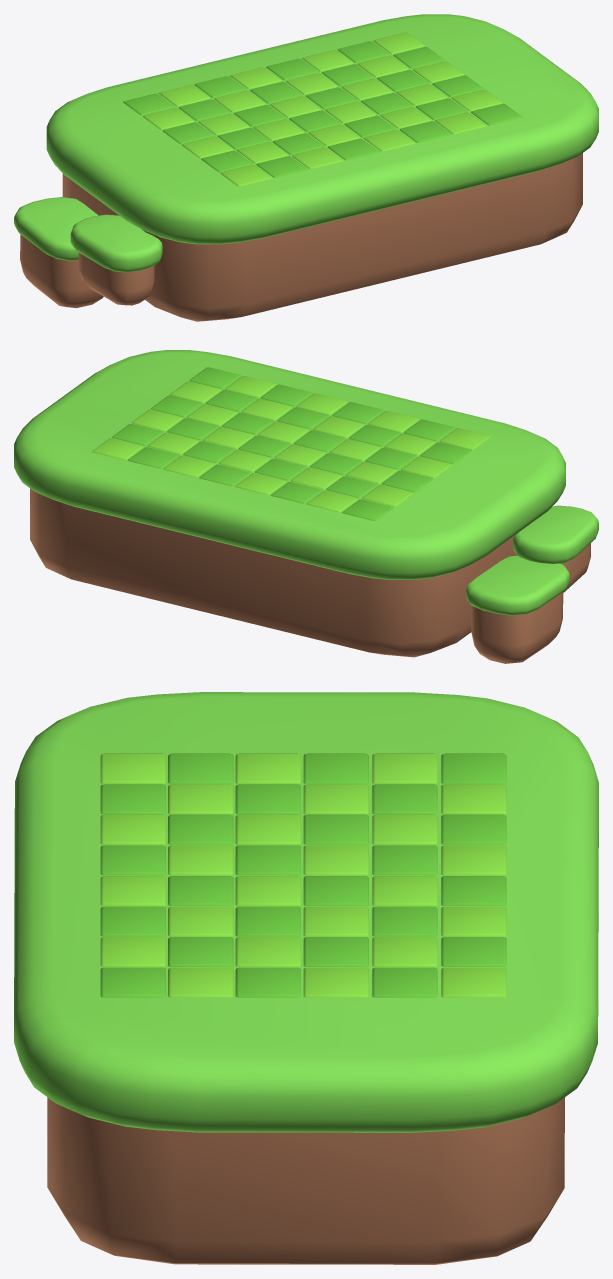
The model's file is Platforms.fbx.
3 renders of one model, top to bottom at view 1: azimuth 30°, elevation 25°; view 2: azimuth 150°, elevation 25°; view 3: azimuth 270°, elevation 25°, orthographic. The views are drawn at different scales.
Visible parts, largest first — view 1: Cube.077, Cube.076, Cube.065, Cube.069, Cube.068, Cube.064, Cube.054, Cube.062, Cube.081, Cube.014, Cube.039, Cube.013 (+42 smaller); view 2: Cube.077, Cube.076, Cube.069, Cube.068, Cube.065, Cube.013, Cube.081, Cube.120, Cube.086, Cube.015, Cube.019, Cube.026 (+42 smaller); view 3: Cube.077, Cube.076, Cube.025, Cube.061, Cube.122, Cube.016, Cube.018, Cube.019, Cube.026, Cube.054, Cube.060, Cube.062 (+38 smaller).
Boxes of the visible parts, x1,y1,x2,y2 form: Cube.077: (46,14,598,244); Cube.076: (62,153,582,321); Cube.065: (70,214,162,272); Cube.069: (14,197,98,260); Cube.068: (20,234,103,308); Cube.064: (78,252,154,305); Cube.054: (289,110,340,132); Cube.062: (308,124,359,146); Cube.081: (325,101,376,123); Cube.014: (201,150,252,172); Cube.039: (214,90,265,112); Cube.013: (123,93,174,115); Cube.077: (14,350,565,579); Cube.076: (30,488,517,657); Cube.069: (466,555,569,615); Cube.068: (471,592,563,663); Cube.065: (513,505,598,563); Cube.013: (342,499,393,521); Cube.081: (258,421,309,443); Cube.120: (92,438,143,460); Cube.086: (203,427,254,448); Cube.015: (439,428,490,449); Cube.019: (306,490,357,512); Cube.026: (404,419,454,441); Cube.077: (14,692,598,1132); Cube.076: (47,1097,564,1264); Cube.025: (168,784,233,814); Cube.061: (441,845,506,875); Cube.122: (100,967,165,997); Cube.016: (303,784,368,814); Cube.018: (372,784,437,814); Cube.019: (441,784,506,814); Cube.026: (100,784,165,814); Cube.054: (235,845,300,875); Cube.060: (372,845,437,875); Cube.062: (168,845,233,875).
Bounding box in the file's own units: 7125 × 1878 × 4065.
